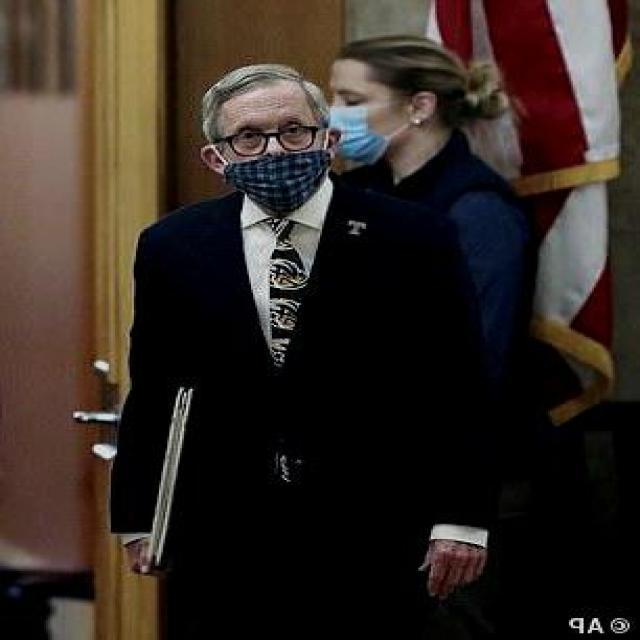hairnet: (201, 66, 339, 210)
